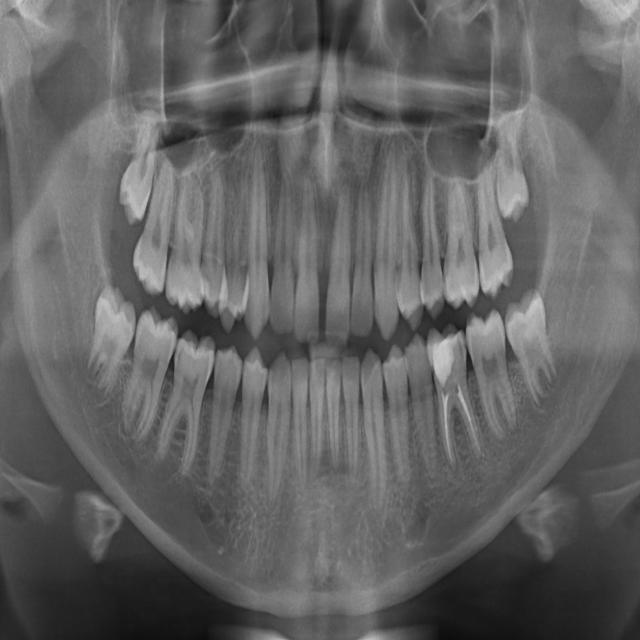CompositeResinRestoration: (432, 338, 456, 386)
DentalCaries: (453, 328, 466, 375), (172, 340, 187, 380), (445, 273, 459, 301)
ImpactedTooth: (90, 278, 132, 388)
RootCanalTreatment: (436, 389, 484, 478)
periapicalLesion: (446, 454, 467, 494)
